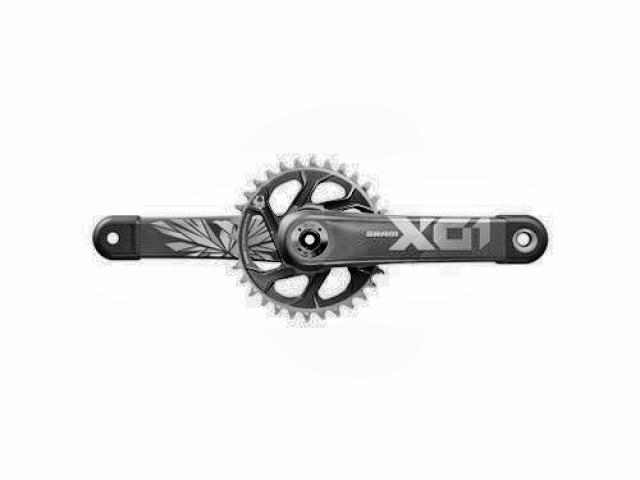cranks_set: (229, 155, 550, 320)
